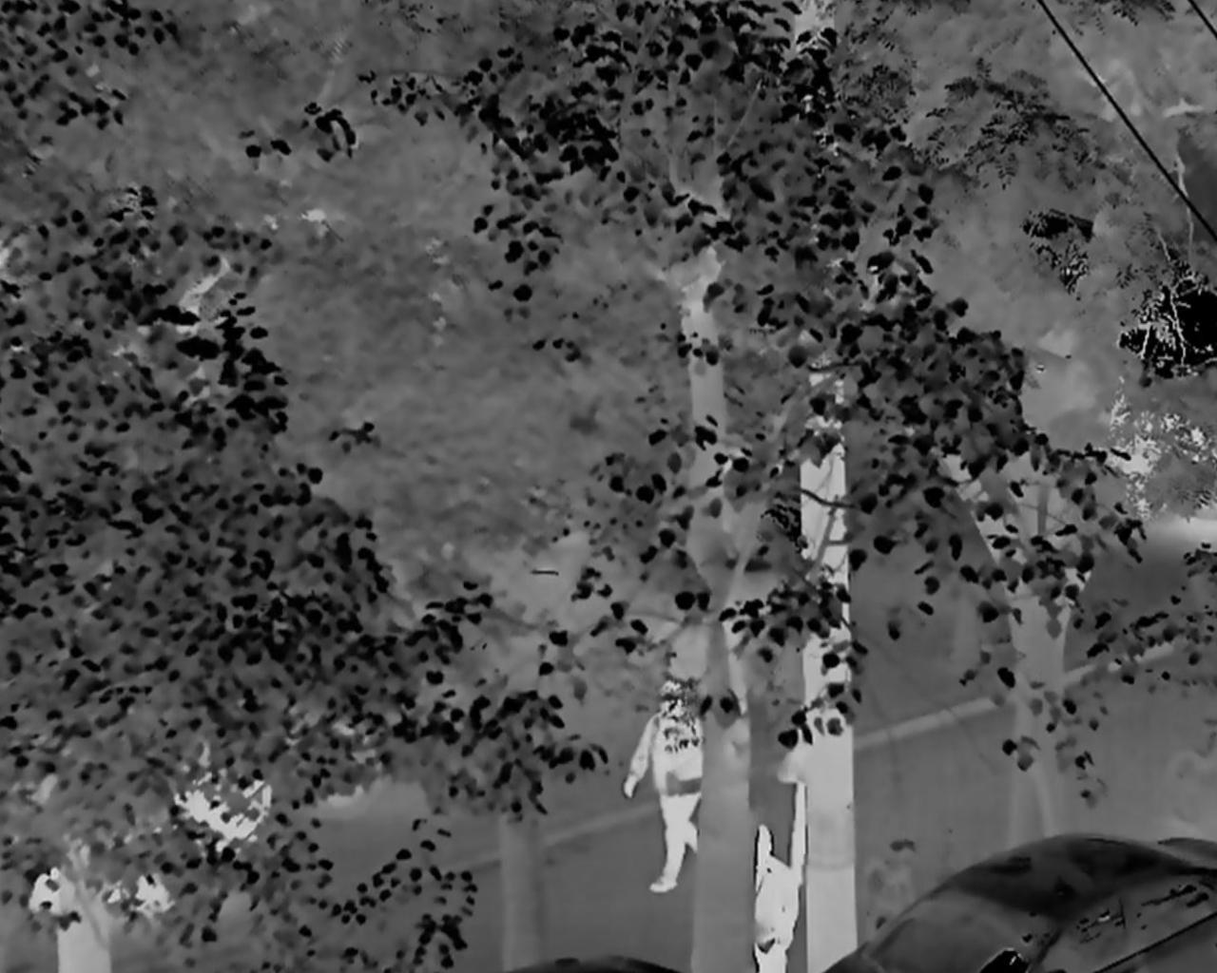person: (628, 678, 704, 900), (749, 818, 804, 973)
